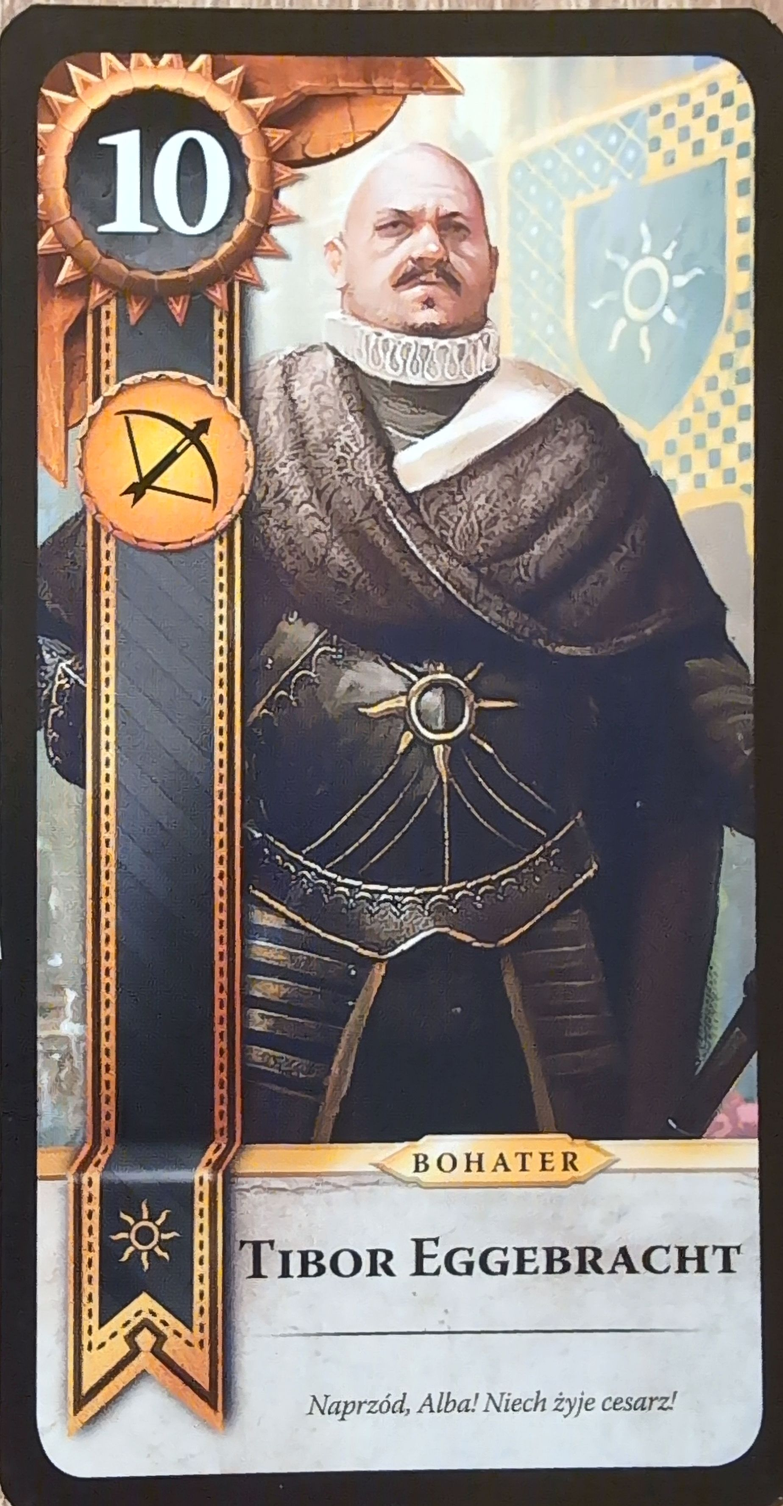10: (29, 41, 303, 325)
bohater: (375, 1125, 619, 1194)
lucznik: (77, 372, 257, 554)
